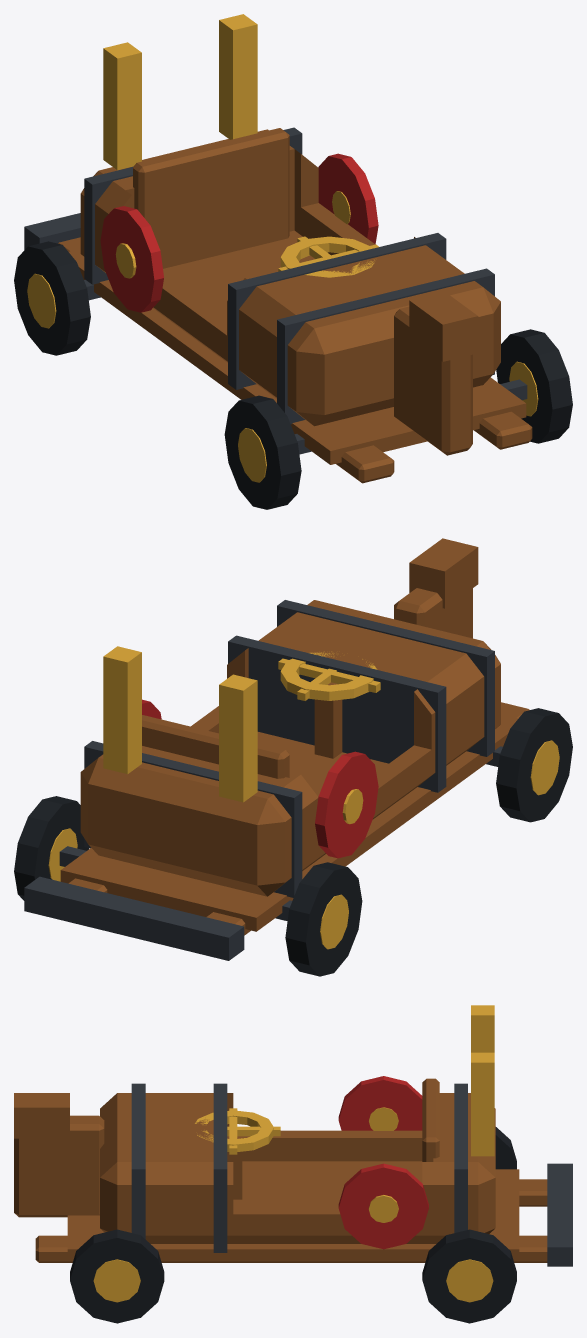
File: veh_derby_viking_keg_1p.glb
3 views of the same model, one above another, from view 1: azimuth 30°, elevation 25°; view 2: azimuth 150°, elevation 25°; view 3: azimuth 270°, elevation 25° (orthographic). The views are drawn at different scales.
Parts seen in each view (by area): view 1: body, brawler_wheel, iron_hoop_f, boss_l, shield_l, brawler_hub, steer_spin; view 2: body, iron_hoop_f, brawler_wheel, boss_l, shield_l, brawler_hub, steer_spin; view 3: body, brawler_wheel, iron_hoop_f, shield_l, boss_l, brawler_hub, steer_spin.
Boxes of the visible parts, x1,y1,x2,y2 form: body: [58, 128, 532, 483]; brawler_wheel: [14, 241, 572, 509]; iron_hoop_f: [24, 127, 527, 454]; boss_l: [103, 14, 350, 278]; shield_l: [100, 153, 378, 312]; brawler_hub: [27, 273, 538, 482]; steer_spin: [278, 236, 378, 277]; body: [60, 538, 529, 935]; iron_hoop_f: [24, 600, 502, 960]; brawler_wheel: [14, 708, 572, 976]; boss_l: [103, 646, 363, 824]; shield_l: [142, 699, 378, 858]; brawler_hub: [48, 740, 559, 949]; steer_spin: [278, 651, 380, 700]; body: [14, 1078, 547, 1262]; brawler_wheel: [70, 1127, 516, 1323]; iron_hoop_f: [131, 1083, 572, 1266]; shield_l: [338, 1076, 428, 1249]; boss_l: [368, 1005, 494, 1222]; brawler_hub: [93, 1259, 493, 1302]; steer_spin: [195, 1108, 280, 1154].
Size of the model in its own units: 1.32 by 1.18 by 2.6.
